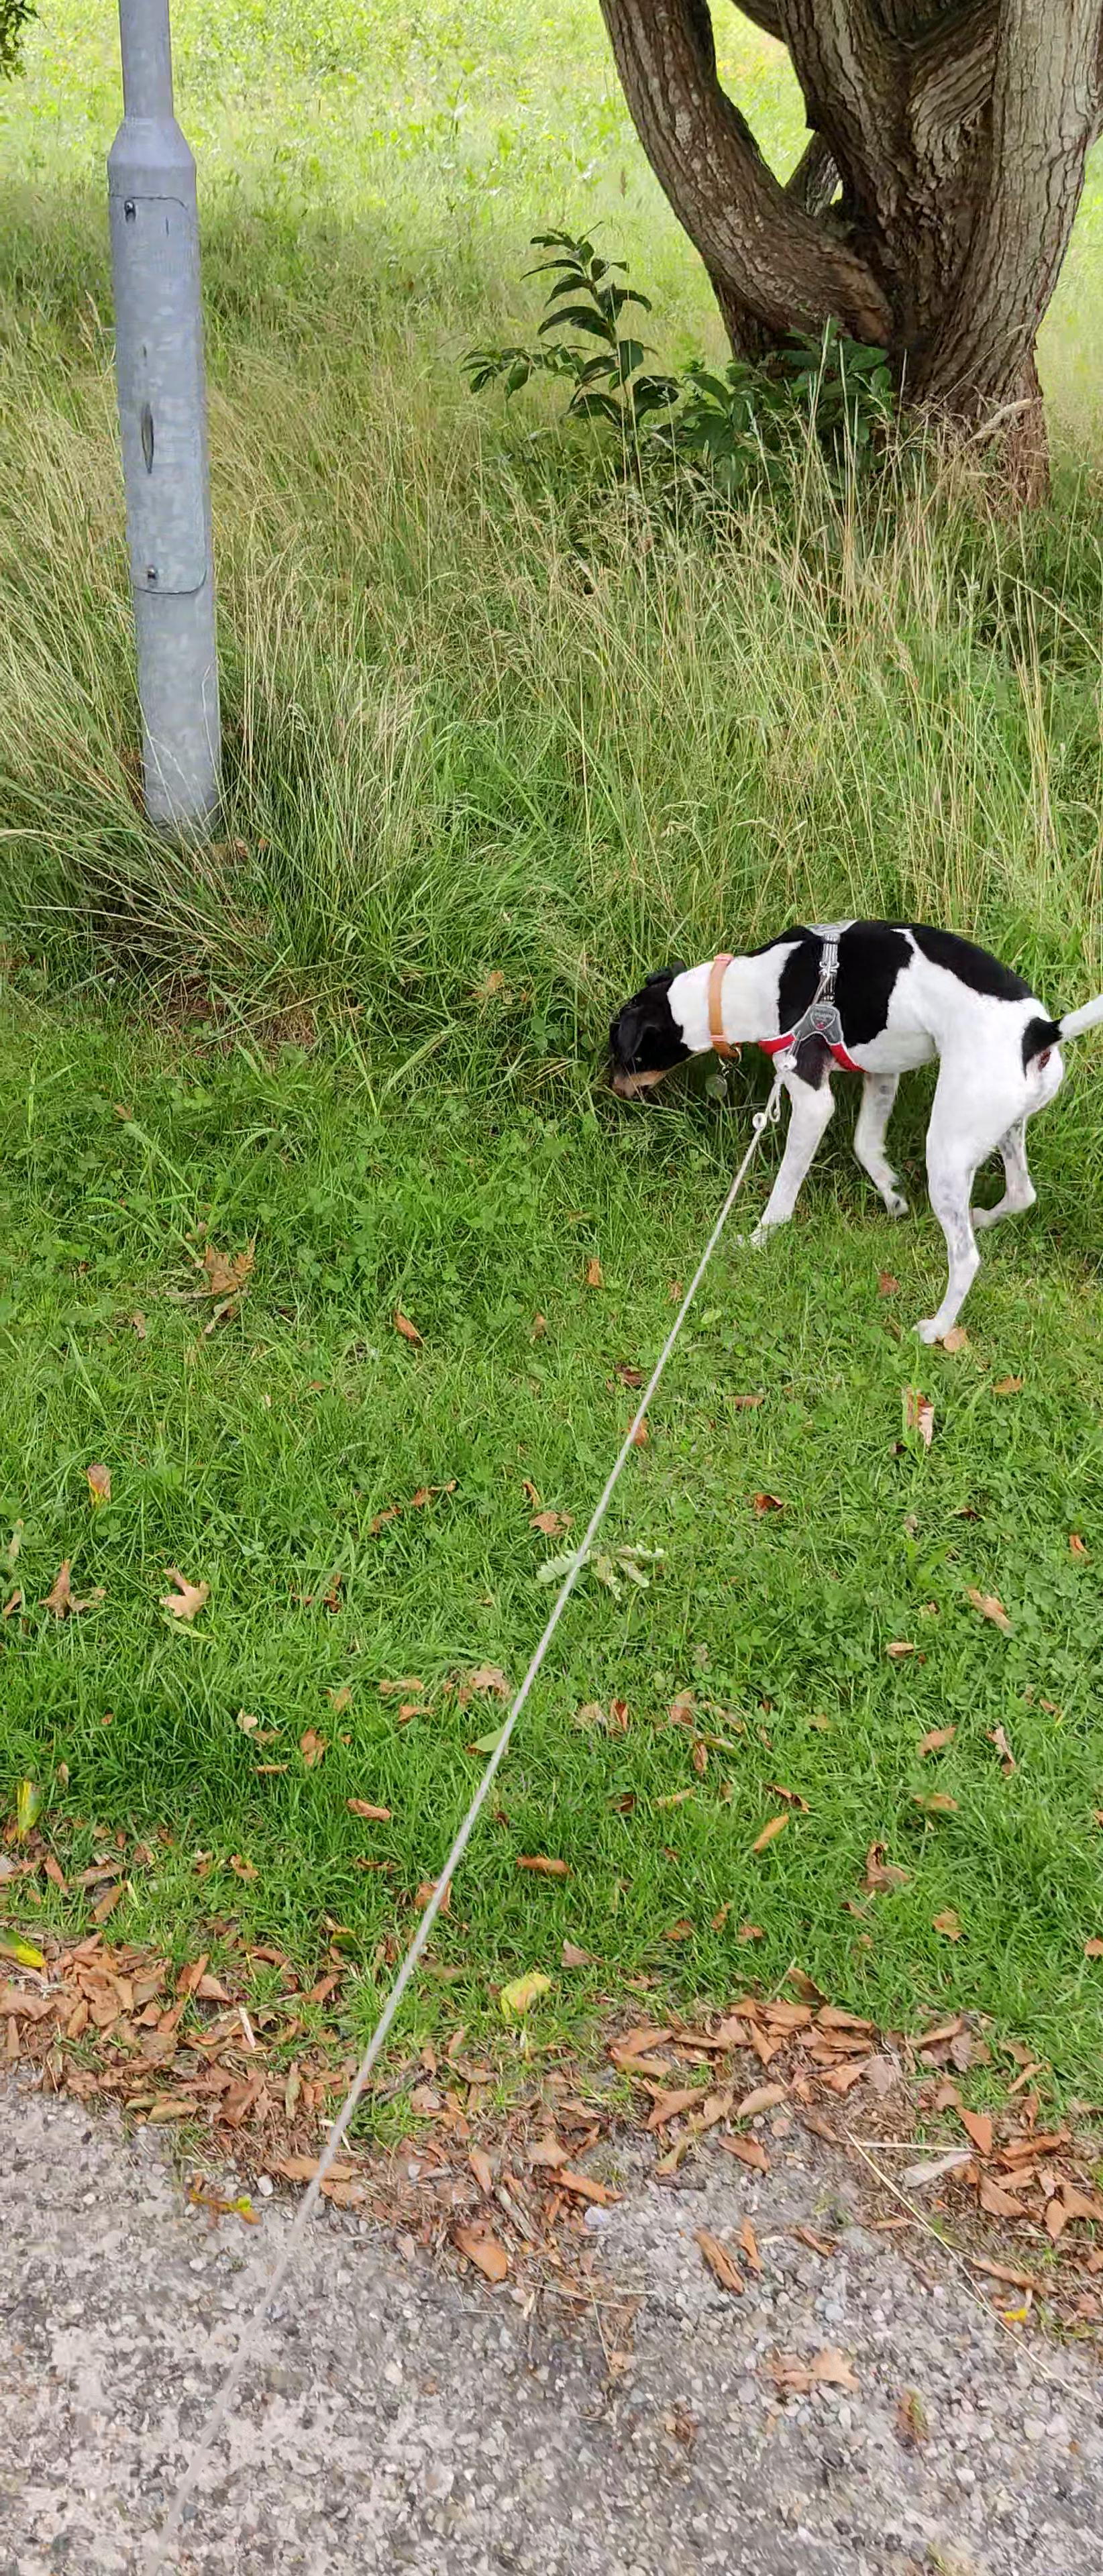Dog: (598, 908, 1103, 1347)
